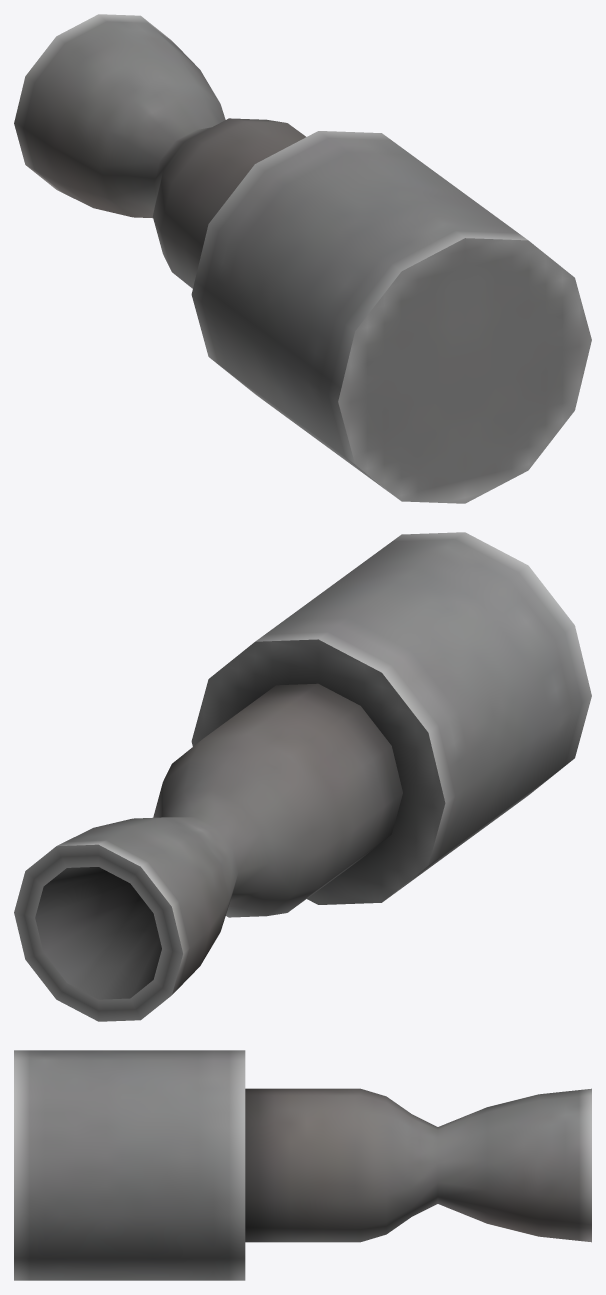
Rendered from rcs_linear.obj.
3 views of the same model, one above another, from view 1: azimuth 30°, elevation 25°; view 2: azimuth 150°, elevation 25°; view 3: azimuth 270°, elevation 25° (orthographic). The views are drawn at different scales.
Visible parts, largest first — view 1: 1; view 2: 1; view 3: 1.
Part boxes in pixels (box(x1,y1,x2,y2)): 1: box(14, 14, 591, 503); 1: box(14, 532, 591, 1021); 1: box(14, 1050, 591, 1280).
Size of the model in its own units: 0.075 by 0.075 by 0.1875.
Materials: 1 (1 with a texture image).
